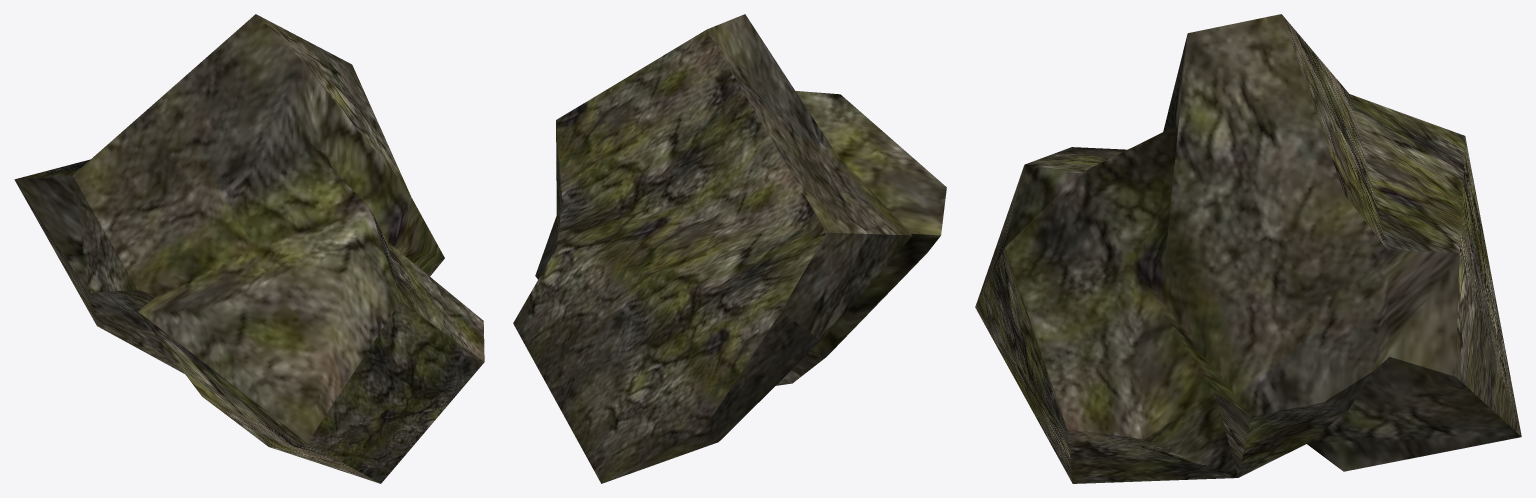
3 renders of one model, left to right at view 1: azimuth 30°, elevation 25°; view 2: azimuth 150°, elevation 25°; view 3: azimuth 270°, elevation 25°, orthographic. The views are drawn at different scales.
Parts seen in each view (by area): view 1: model_Object21; view 2: model_Object21; view 3: model_Object21.
Part boxes in pixels (x1,y1,x2,y2): model_Object21: [14, 14, 484, 483]; model_Object21: [513, 14, 946, 483]; model_Object21: [975, 14, 1521, 483].
Bounding box in the file's own units: 1.16 × 1.28 × 1.4.
1 material, 1 textured.
